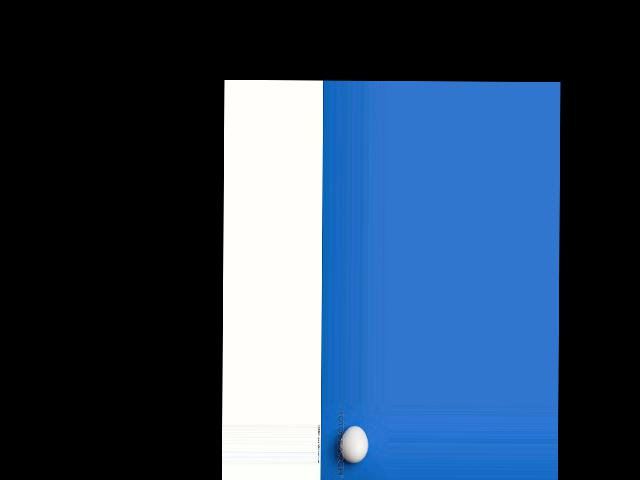egg: (338, 426, 367, 463)
